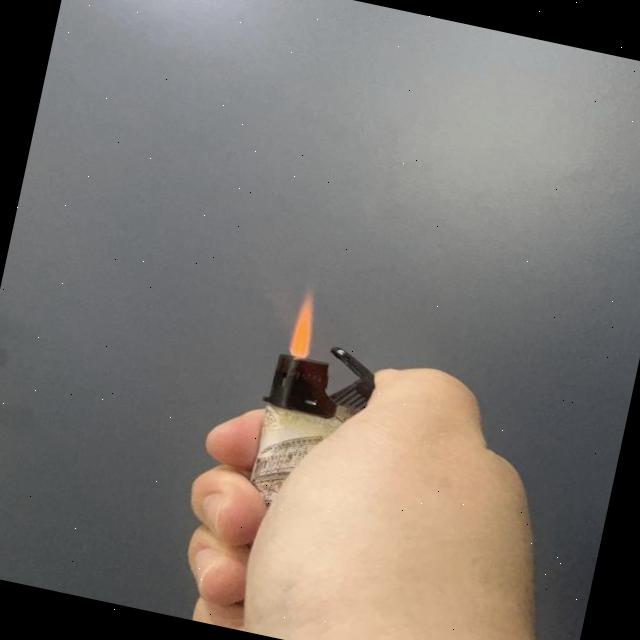fire: (282, 283, 326, 362)
